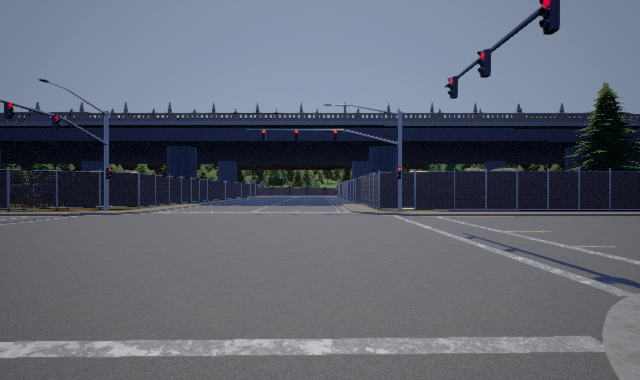traffic_light: (539, 1, 560, 35), (477, 49, 491, 78), (447, 76, 458, 99), (4, 102, 14, 119), (52, 115, 60, 130), (106, 168, 112, 179), (397, 167, 401, 179), (294, 130, 298, 141), (262, 130, 266, 141), (334, 130, 337, 141)
